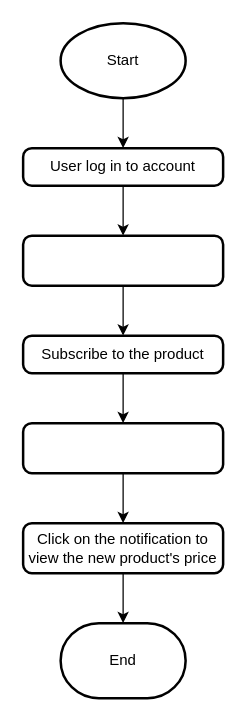
Image size: 245x720. Some labels were removed from this diagram. The centre of each missing label's shape, as x and y in pixels:
Receive notification when the price drops: the point at 122,447
Select the product that the user wants to subscribe: the point at 122,260
